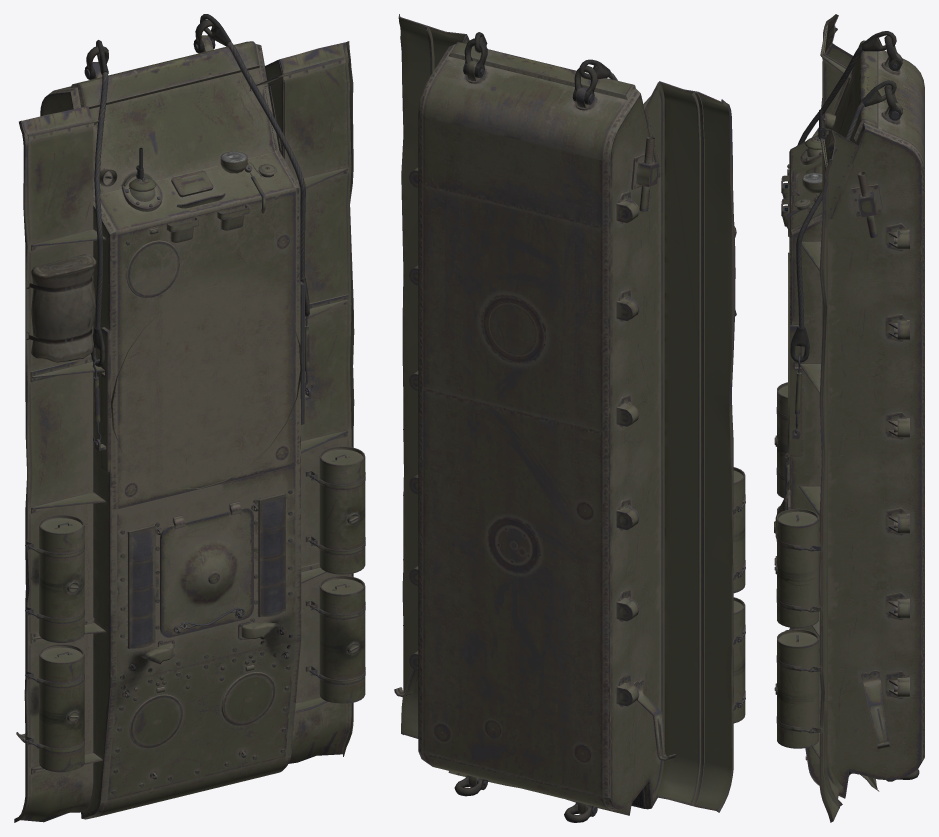
File: Hull.glb
3 views of the same model, side by side, from view 1: azimuth 30°, elevation 25°; view 2: azimuth 150°, elevation 25°; view 3: azimuth 270°, elevation 25° (orthographic). The views are drawn at different scales.
Visible parts, largest first — view 1: set_0_group_0; view 2: set_0_group_0; view 3: set_0_group_0.
Part boxes in pixels (box(x1,y1,x2,y2)): set_0_group_0: box(14, 14, 365, 822); set_0_group_0: box(394, 14, 745, 822); set_0_group_0: box(774, 14, 924, 822).
Bounding box in the file's own units: 3.22 × 6.92 × 1.35.
Materials: 1 (1 with a texture image).
